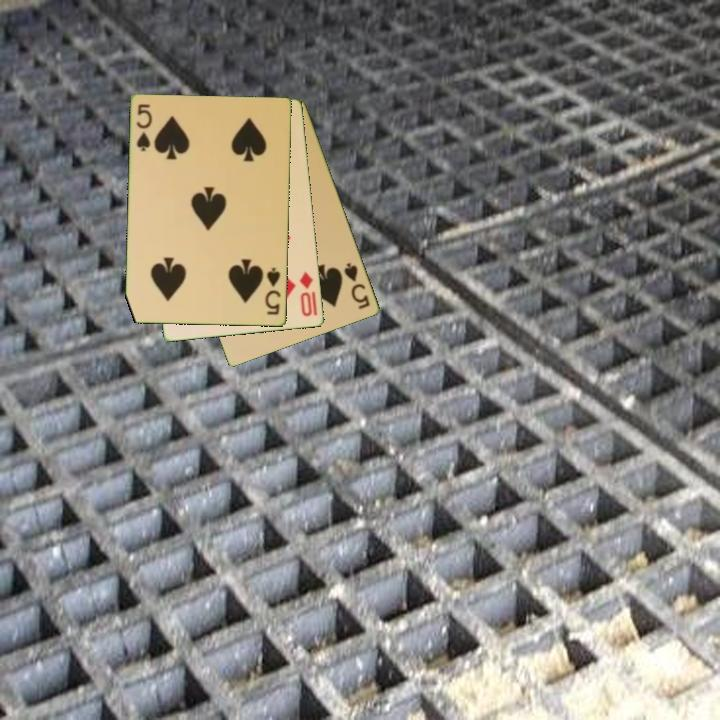10d: (296, 269, 316, 320)
5s: (341, 259, 373, 312), (262, 264, 284, 318), (133, 101, 155, 155)
